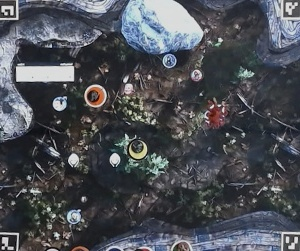giant_red_octopus: (203, 101, 232, 129)
lime_green_violet: (129, 137, 151, 160)
orange: (84, 84, 107, 107)
